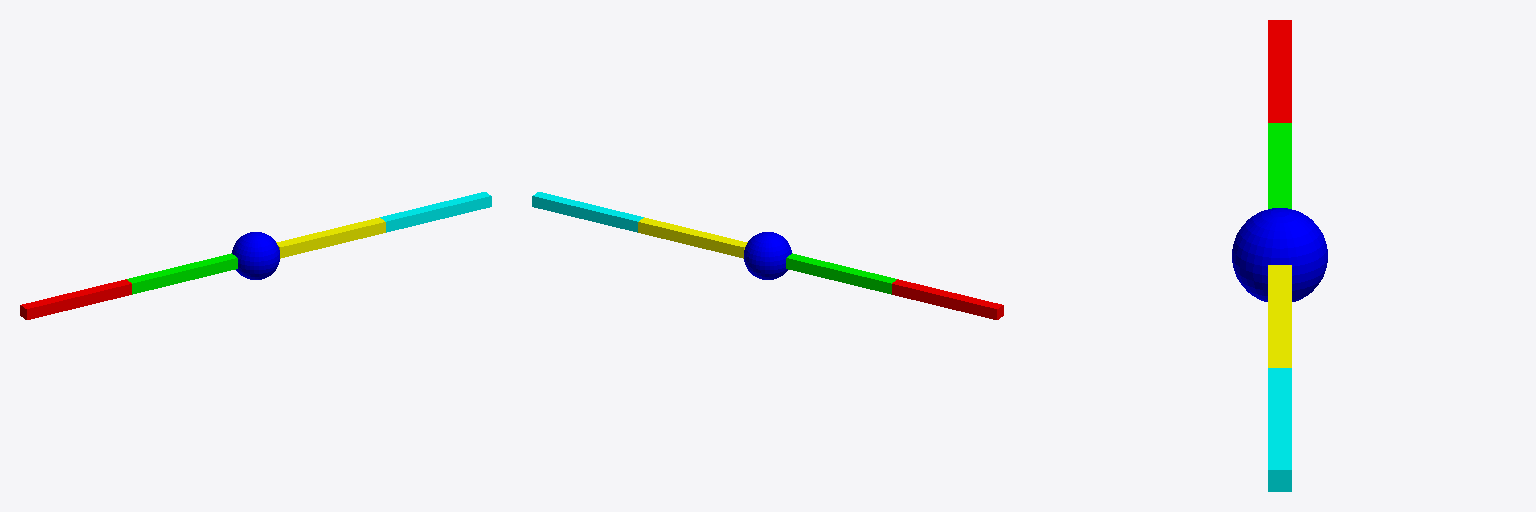
robot.urdf — satellite_model:
<?xml version="1.0"?>
<robot name="satellite_model">

  <!-- World fixed frame -->
  <link name="world"/>

  <!-- Base link -->
  <link name="base">
    <inertial>
      <origin xyz="0 0 0"/>
      <mass value="1"/>
      <inertia ixx="0.032" ixy="0" ixz="0" iyy="0.032" iyz="0" izz="0.032"/>
    </inertial>
    <visual>
      <origin xyz="0 0 0" rpy="0 0 0"/>
      <geometry>
        <sphere radius="0.2"/>
      </geometry>
      <material name="blue">
        <color rgba="0 0 1 1"/>
      </material>
    </visual>
    <collision>
      <origin xyz="0 0 0" rpy="0 0 0"/>
      <geometry>
        <sphere radius="0.2"/>
      </geometry>
    </collision>
  </link>

  <!-- Base joint: base and world -->
  <joint name="base_revolute" type="revolute">
    <parent link="world"/>
    <child link="base"/>
    <origin xyz="0 0 0" rpy="0 0 0"/>
    <axis xyz="0 0 1"/>
    <limit effort="100" velocity="10" lower="-3.1416" upper="3.1416"/>
  </joint>

  <!-- Link l2 -->
  <link name="l2">
    <inertial>
      <origin xyz="-0.5 0 0"/>
      <mass value="1"/>
      <inertia ixx="0.00833" ixy="0" ixz="0" iyy="0.0833" iyz="0" izz="0.0833"/>
    </inertial>
    <visual>
      <origin xyz="-0.5 0 0" rpy="0 0 0"/>
      <geometry>
        <box size="1 0.1 0.1"/>
      </geometry>
      <material name="green">
        <color rgba="0 1 0 1"/>
      </material>
    </visual>
    <collision>
      <origin xyz="-0.5 0 0" rpy="0 0 0"/>
      <geometry>
        <box size="1 0.1 0.1"/>
      </geometry>
    </collision>
  </link>

  <!-- Joint j2: base -> l2 -->
  <joint name="j2" type="revolute">
    <parent link="base"/>
    <child link="l2"/>
    <origin xyz="-0.2 0 0" rpy="0 0 0"/>
    <axis xyz="0 0 1"/>
    <limit effort="100" velocity="10" lower="-3.1416" upper="3.1416"/>
  </joint>

  <!-- Link l1 -->
  <link name="l1">
    <inertial>
      <origin xyz="-0.5 0 0"/>
      <mass value="1"/>
      <inertia ixx="0.00833" ixy="0" ixz="0" iyy="0.0833" iyz="0" izz="0.0833"/>
    </inertial>
    <visual>
      <origin xyz="-0.5 0 0" rpy="0 0 0"/>
      <geometry>
        <box size="1 0.1 0.1"/>
      </geometry>
      <material name="red">
        <color rgba="1 0 0 1"/>
      </material>
    </visual>
    <collision>
      <origin xyz="-0.5 0 0" rpy="0 0 0"/>
      <geometry>
        <box size="1 0.1 0.1"/>
      </geometry>
    </collision>
  </link>

  <!-- Joint j1: l2 -> l1 -->
  <joint name="j1" type="revolute">
    <parent link="l2"/>
    <child link="l1"/>
    <origin xyz="-1 0 0" rpy="0 0 0"/>
    <axis xyz="0 0 1"/>
    <limit effort="100" velocity="10" lower="-3.1416" upper="3.1416"/>
  </joint>

  <!-- Link l3 -->
  <link name="l3">
    <inertial>
      <origin xyz="0.5 0 0"/>
      <mass value="1"/>
      <inertia ixx="0.00833" ixy="0" ixz="0" iyy="0.0833" iyz="0" izz="0.0833"/>
    </inertial>
    <visual>
      <origin xyz="0.5 0 0" rpy="0 0 0"/>
      <geometry>
        <box size="1 0.1 0.1"/>
      </geometry>
      <material name="yellow">
        <color rgba="1 1 0 1"/>
      </material>
    </visual>
    <collision>
      <origin xyz="0.5 0 0" rpy="0 0 0"/>
      <geometry>
        <box size="1 0.1 0.1"/>
      </geometry>
    </collision>
  </link>

  <!-- Joint j3: base -> l3 -->
  <joint name="j3" type="revolute">
    <parent link="base"/>
    <child link="l3"/>
    <origin xyz="0.2 0 0" rpy="0 0 0"/>
    <axis xyz="0 0 1"/>
    <limit effort="100" velocity="10" lower="-3.1416" upper="3.1416"/>
  </joint>

  <!-- Link l4 -->
  <link name="l4">
    <inertial>
      <origin xyz="0.5 0 0"/>
      <mass value="1"/>
      <inertia ixx="0.00833" ixy="0" ixz="0" iyy="0.0833" iyz="0" izz="0.0833"/>
    </inertial>
    <visual>
      <origin xyz="0.5 0 0" rpy="0 0 0"/>
      <geometry>
        <box size="1 0.1 0.1"/>
      </geometry>
      <material name="cyan">
        <color rgba="0 1 1 1"/>
      </material>
    </visual>
    <collision>
      <origin xyz="0.5 0 0" rpy="0 0 0"/>
      <geometry>
        <box size="1 0.1 0.1"/>
      </geometry>
    </collision>
  </link>

  <!-- Joint j4: l3 -> l4 -->
  <joint name="j4" type="revolute">
    <parent link="l3"/>
    <child link="l4"/>
    <origin xyz="1 0 0" rpy="0 0 0"/>
    <axis xyz="0 0 1"/>
    <limit effort="100" velocity="10" lower="-3.1416" upper="3.1416"/>
  </joint>
</robot>

--- Render facts (derived) ---
3 views of the same robot in one strip: view 1: azimuth 30°, elevation 25°; view 2: azimuth 150°, elevation 25°; view 3: azimuth 270°, elevation 25° (orthographic).
Robot: satellite_model — 6 links, 5 joints (5 revolute); root link world; default pose: all joints at 0.
Links seen in each view (by area): view 1: l1, l4, l2, l3, base; view 2: l1, l4, l2, l3, base; view 3: base, l4, l1, l3, l2.
Boxes of the visible links, bbox=[...] form: l1: bbox=[20, 279, 131, 319]; l4: bbox=[380, 192, 491, 232]; l2: bbox=[127, 253, 237, 294]; l3: bbox=[276, 217, 385, 258]; base: bbox=[232, 232, 279, 279]; l1: bbox=[892, 279, 1003, 319]; l4: bbox=[532, 192, 643, 232]; l2: bbox=[786, 253, 896, 294]; l3: bbox=[638, 217, 747, 258]; base: bbox=[744, 232, 791, 279]; base: bbox=[1232, 208, 1327, 301]; l4: bbox=[1268, 368, 1291, 491]; l1: bbox=[1268, 20, 1291, 122]; l3: bbox=[1268, 265, 1291, 367]; l2: bbox=[1268, 123, 1291, 208].
Bounding box of the posed robot: 4.4 × 0.4 × 0.4 m (x, y, z).
Geometry: primitives only (box / cylinder / sphere), no mesh files.
